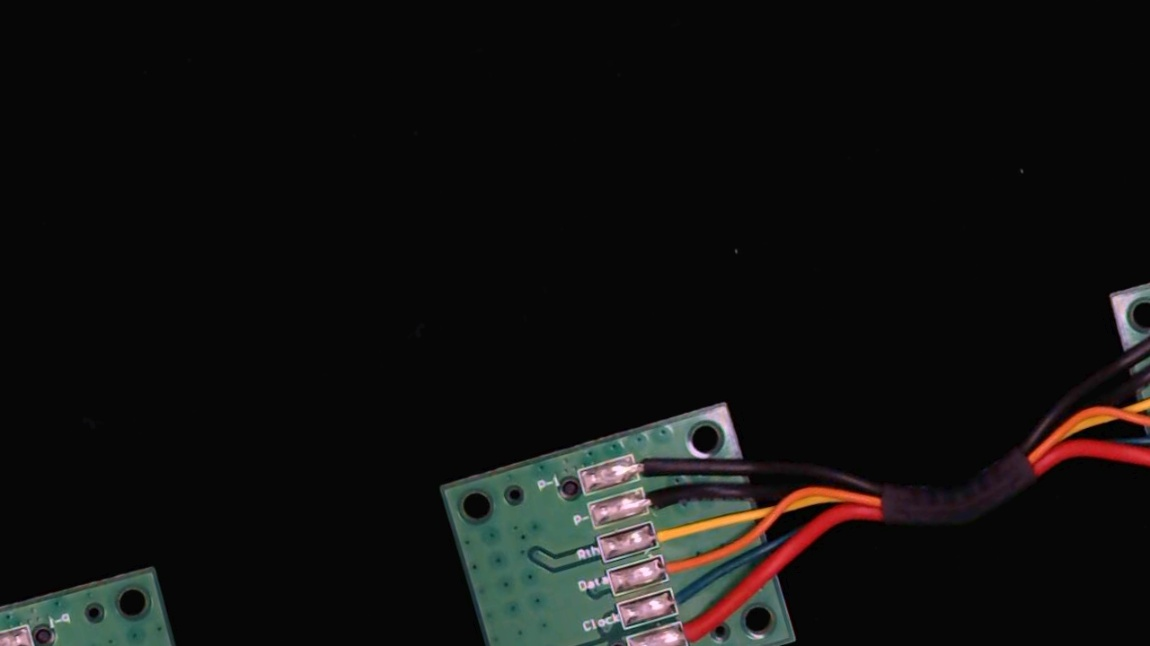Black: (627, 477, 691, 519)
Black1: (617, 439, 683, 483)
Green: (651, 579, 713, 621)
Orange: (644, 546, 705, 587)
Red: (661, 609, 730, 646)
Yellow: (635, 511, 702, 551)
